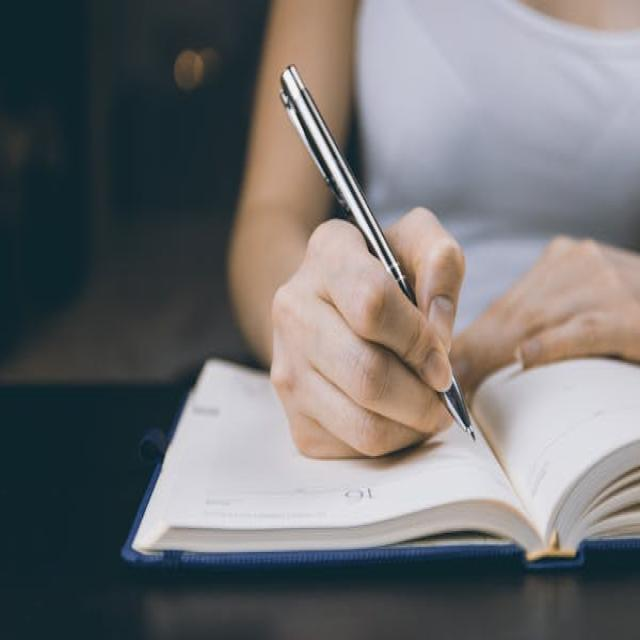pen: (272, 64, 492, 449)
